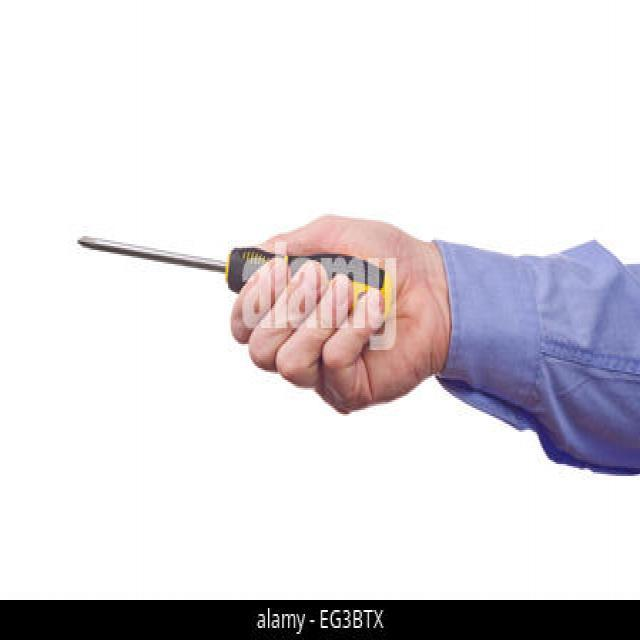screwdriver: (54, 206, 401, 334)
